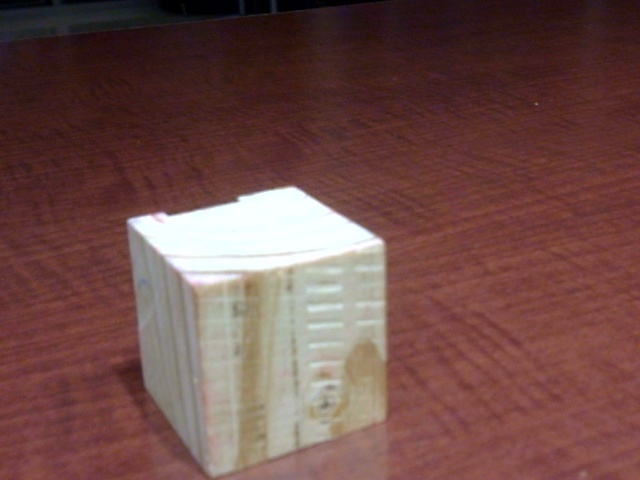NormalBlock: (192, 243, 388, 478)
